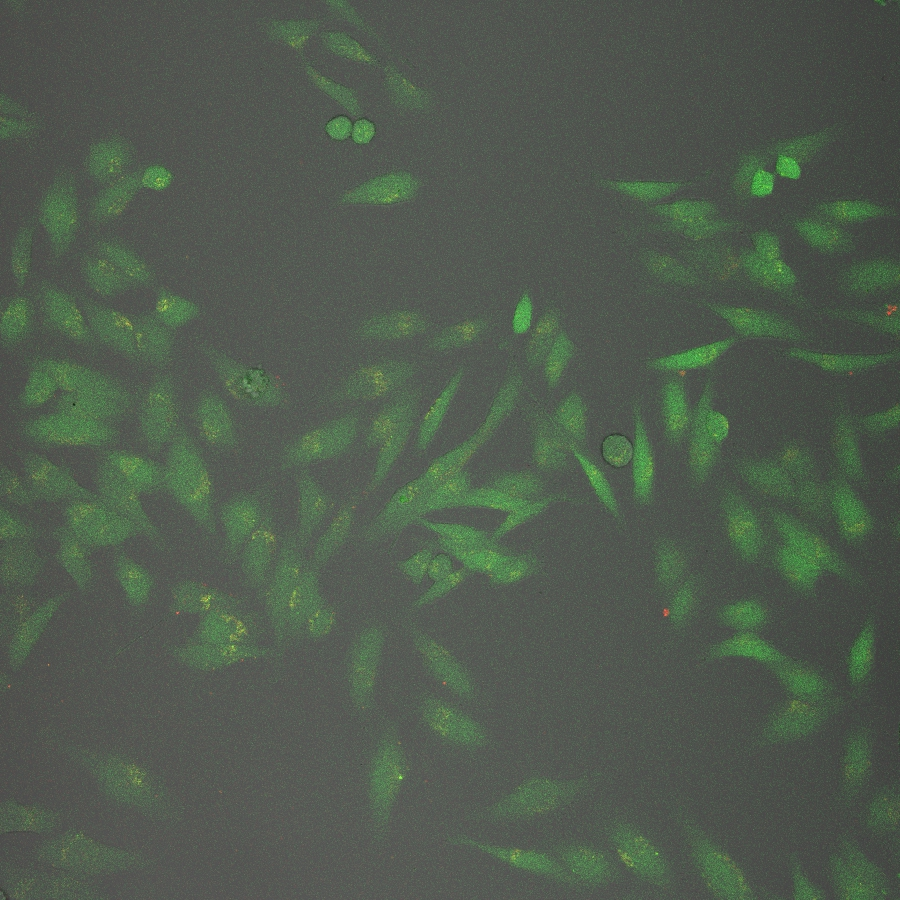live: (62, 750, 191, 819), (747, 688, 858, 751), (405, 622, 486, 704), (471, 769, 585, 823), (640, 331, 742, 387), (272, 406, 359, 469), (686, 822, 755, 900), (444, 835, 569, 877), (598, 819, 673, 885), (713, 477, 764, 570), (151, 635, 279, 672), (415, 364, 468, 451), (330, 162, 427, 208), (34, 274, 86, 359), (369, 731, 406, 847), (776, 342, 891, 379), (210, 486, 264, 561), (580, 168, 699, 202), (346, 617, 384, 717), (33, 173, 76, 260), (139, 368, 177, 463), (838, 603, 882, 685), (184, 387, 231, 459), (342, 308, 426, 344), (807, 195, 895, 229)
mid: (390, 547, 459, 588), (597, 431, 630, 470), (744, 168, 778, 202), (321, 108, 350, 147), (351, 116, 378, 148), (774, 157, 804, 177)
